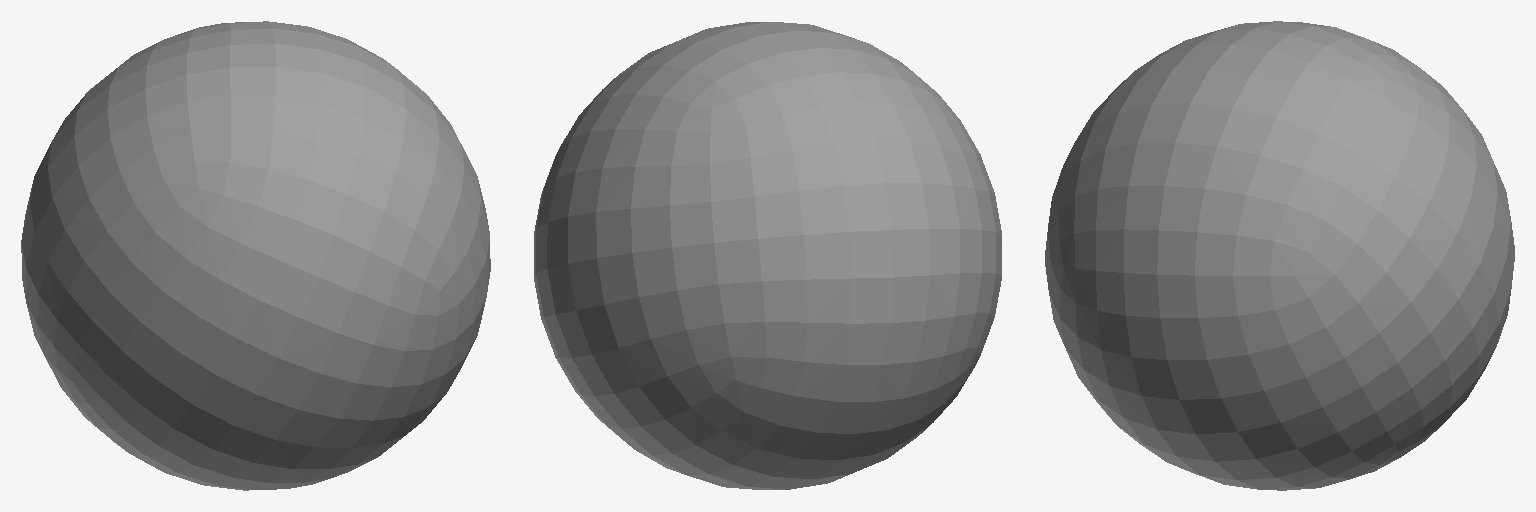
File: moon.obj
The picture shows the model from 3 angles: view 1: azimuth 30°, elevation 25°; view 2: azimuth 150°, elevation 25°; view 3: azimuth 270°, elevation 25°; orthographic projection.
Parts seen in each view (by area): view 1: Moon_Cube.002; view 2: Moon_Cube.002; view 3: Moon_Cube.002.
Part boxes in pixels (bbox=[...]): Moon_Cube.002: bbox=[21, 21, 490, 490]; Moon_Cube.002: bbox=[534, 22, 1001, 489]; Moon_Cube.002: bbox=[1045, 21, 1514, 490].
Size of the model in its own units: 3.48 by 3.48 by 3.49.